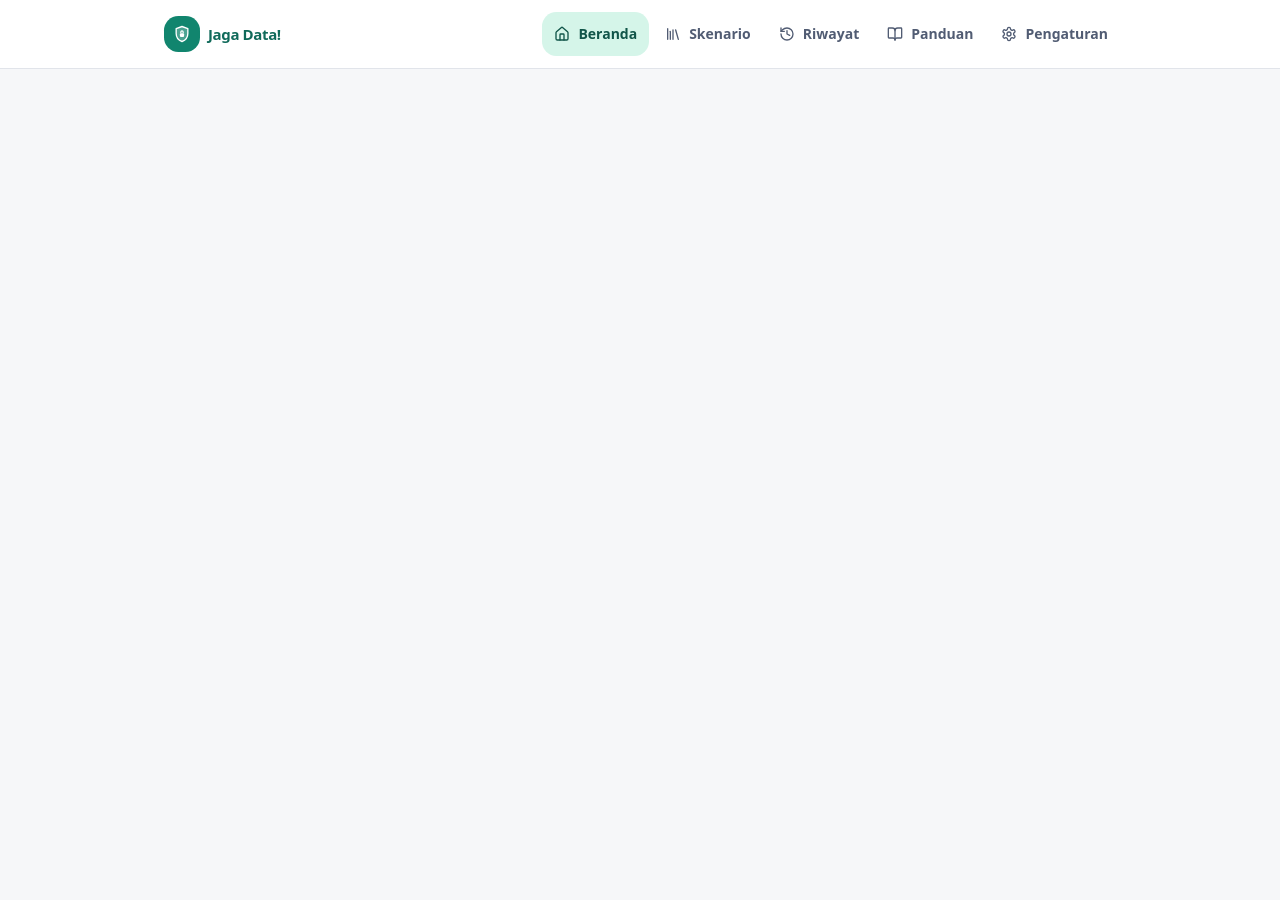
Test case: Header › dialog Pengaturan bisa ditutup dengan tombol tutup
The image size is (1280, 900).
Click the button "Pengaturan" at [1055, 34], box [989, 12, 1120, 56]
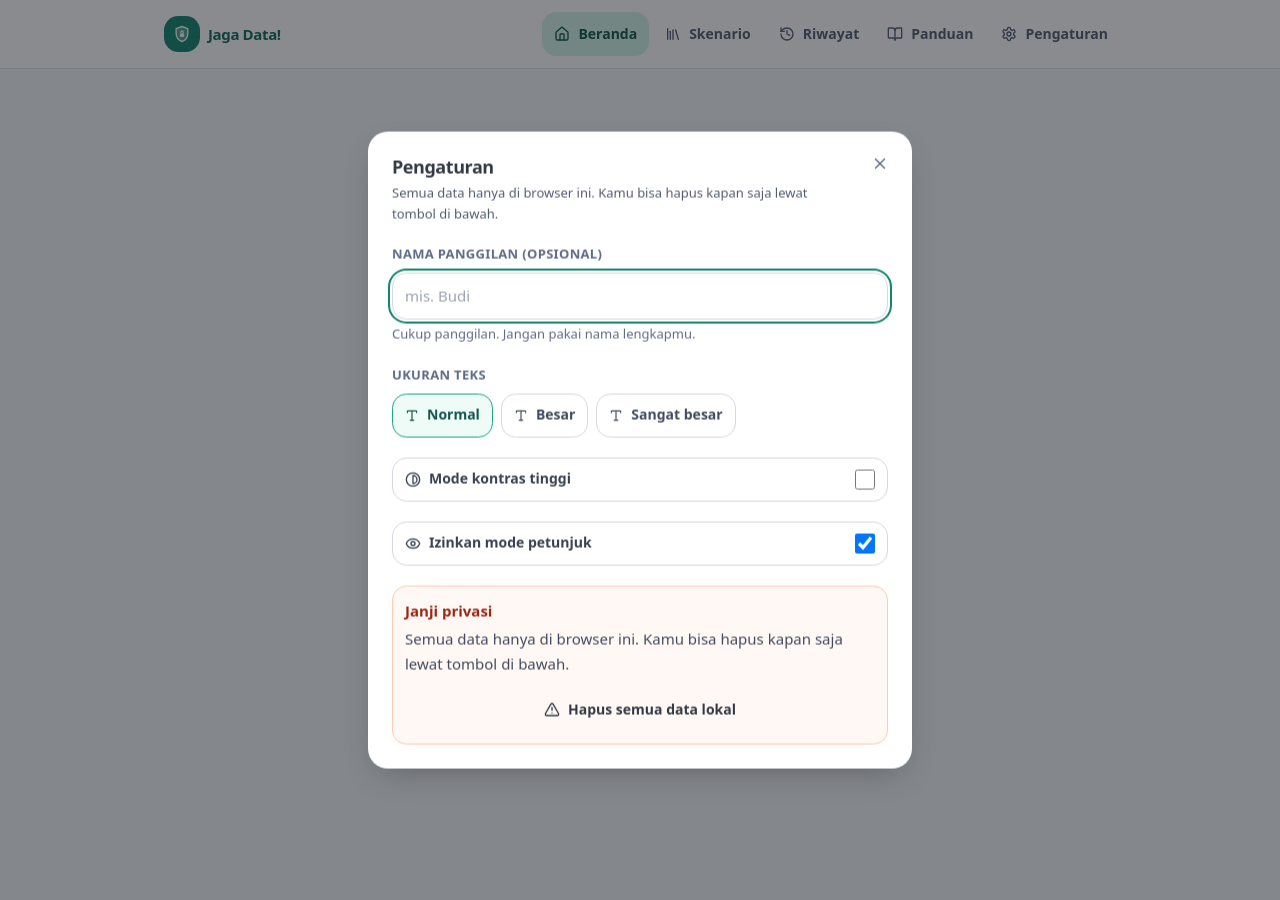
Check: the dialog is shown, box [368, 132, 912, 768]
Click the button named "Tutup dialog" at [880, 164], box [860, 144, 900, 184]
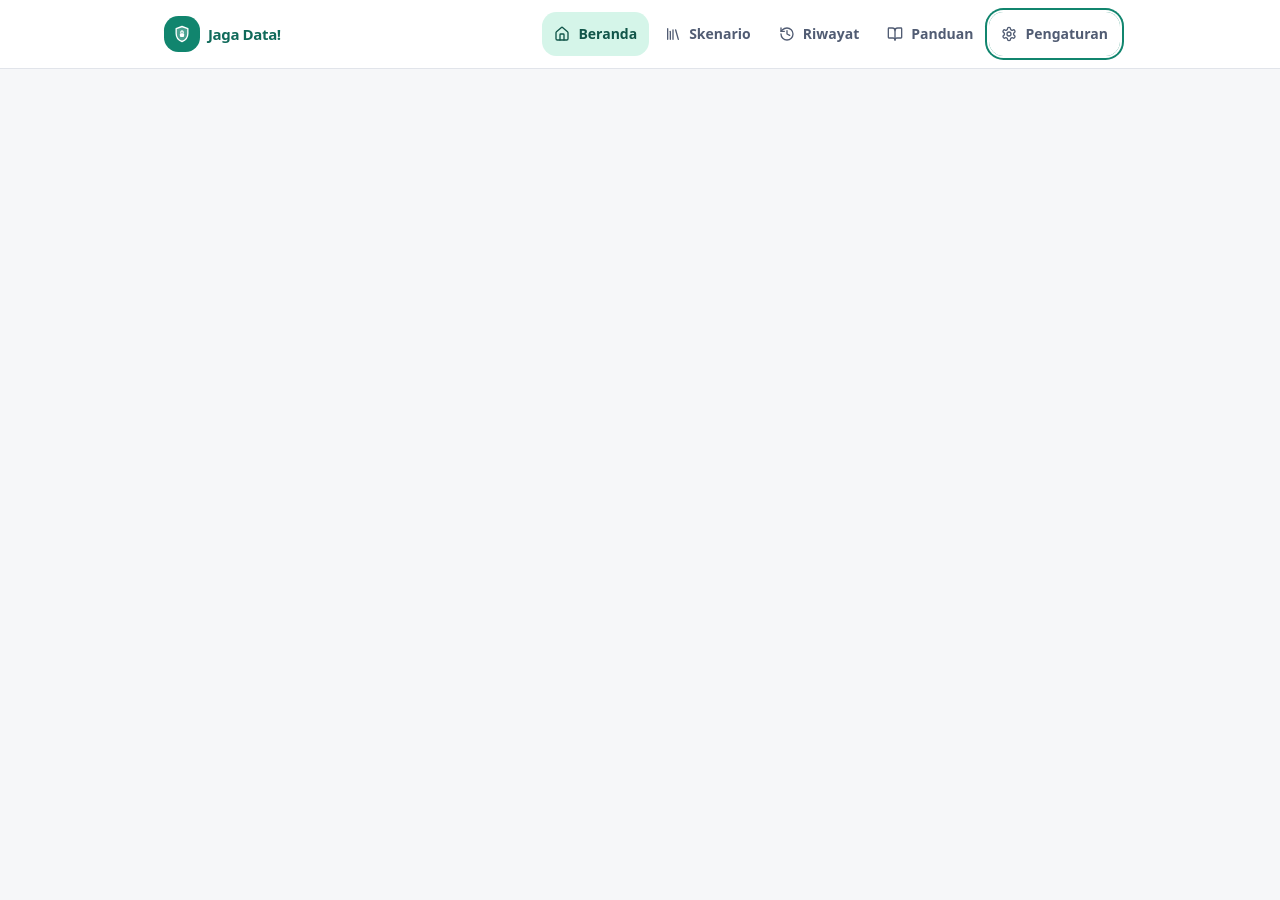
Check: the dialog is gone
